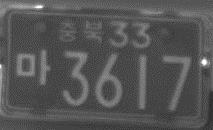1: (130, 53, 156, 109)
3: (60, 50, 89, 107), (130, 20, 151, 48), (108, 20, 127, 48)
6: (94, 52, 123, 107)
7: (161, 54, 192, 111)
마: (15, 48, 51, 85)
충북_O: (58, 18, 103, 45)
